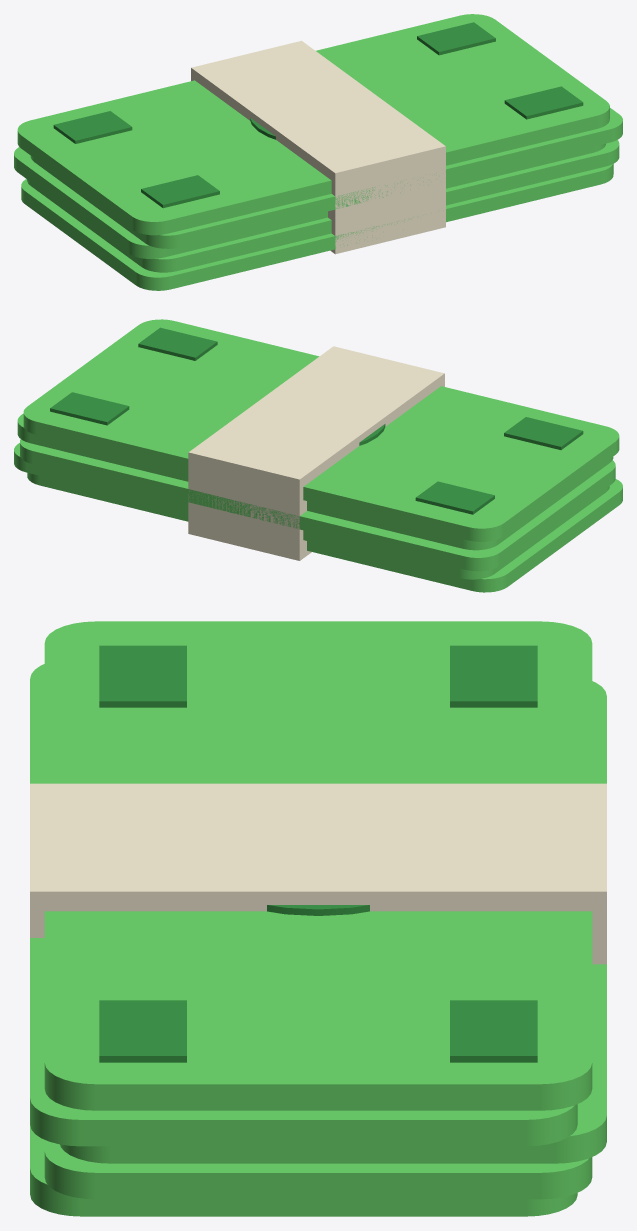
Rendered from CashV2.glb.
The picture shows the model from 3 angles, top to bottom: view 1: azimuth 30°, elevation 25°; view 2: azimuth 150°, elevation 25°; view 3: azimuth 270°, elevation 25°; orthographic projection. The views are drawn at different scales.
Visible parts, largest first — view 1: billGreen (×5), paperBand, billDark (×4); view 2: billGreen (×5), paperBand, billDark (×4); view 3: billGreen (×5), paperBand, billDark (×5).
Part boxes in pixels (x1,y1,x2,y2): billGreen (×5): (14, 14, 622, 290); paperBand: (191, 40, 445, 254); billDark (×4): (53, 22, 583, 208); billGreen (×5): (14, 319, 622, 592); paperBand: (188, 346, 444, 560); billDark (×4): (50, 327, 583, 514); billGreen (×5): (30, 621, 606, 1216); paperBand: (30, 783, 606, 964); billDark (×5): (99, 645, 537, 1062).
Size of the model in its own units: 0.306 by 0.049 by 0.158.
